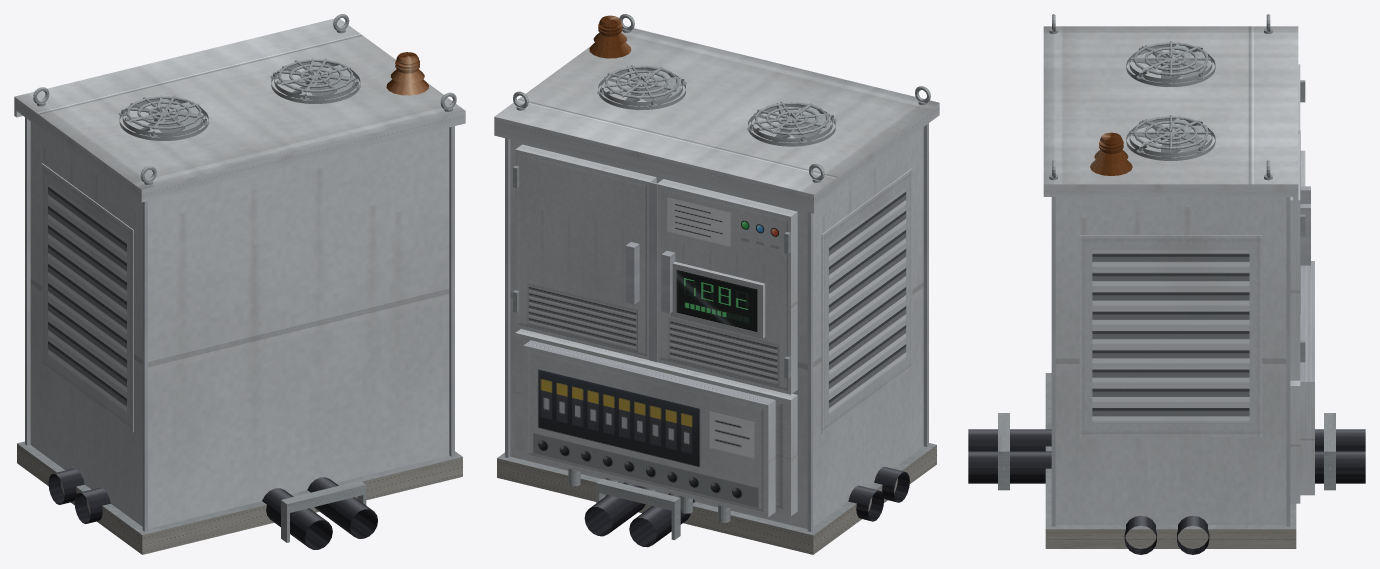
The model's file is pv_inverter.obj.
The picture shows the model from 3 angles, left to right: view 1: azimuth 30°, elevation 25°; view 2: azimuth 150°, elevation 25°; view 3: azimuth 270°, elevation 25°; orthographic projection.
Parts seen in each view (by area): view 1: cabinet, hood, grille, plinth, entry_south, fan_guard, entry_west, insulator, rotate_fan_west, rotate_fan_east; view 2: door, hood, section, cabinet, grille, plinth, blank, display, fan_guard, entry_north, entry_west, insulator (+2 smaller); view 3: cabinet, hood, grille, plinth, fan_guard, entry_south, door, section, entry_north, blank, insulator, entry_east (+2 smaller).
Part boxes in pixels (x1=…): cabinet: x1=25, y1=117, x2=454, y2=531; hood: x1=14, y1=14, x2=465, y2=202; grille: x1=41, y1=163, x2=133, y2=432; plinth: x1=17, y1=441, x2=462, y2=554; entry_south: x1=262, y1=477, x2=377, y2=549; fan_guard: x1=118, y1=58, x2=361, y2=140; entry_west: x1=48, y1=468, x2=110, y2=523; insulator: x1=386, y1=52, x2=428, y2=95; rotate_fan_west: x1=124, y1=95, x2=203, y2=137; rotate_fan_east: x1=276, y1=58, x2=355, y2=100; door: x1=513, y1=144, x2=797, y2=394; hood: x1=494, y1=14, x2=939, y2=213; section: x1=523, y1=340, x2=775, y2=522; cabinet: x1=505, y1=123, x2=928, y2=531; grille: x1=821, y1=168, x2=912, y2=433; plinth: x1=497, y1=443, x2=936, y2=554; blank: x1=515, y1=329, x2=797, y2=516; display: x1=671, y1=261, x2=765, y2=338; fan_guard: x1=597, y1=65, x2=836, y2=146; entry_north: x1=584, y1=478, x2=694, y2=547; entry_west: x1=848, y1=466, x2=909, y2=521; insulator: x1=589, y1=15, x2=631, y2=58; cabinet: x1=1051, y1=130, x2=1300, y2=526; hood: x1=1043, y1=14, x2=1298, y2=203; grille: x1=1079, y1=235, x2=1262, y2=437; plinth: x1=1045, y1=373, x2=1296, y2=548; fan_guard: x1=1126, y1=41, x2=1215, y2=160; entry_south: x1=968, y1=413, x2=1051, y2=490; door: x1=1290, y1=64, x2=1310, y2=380; section: x1=1300, y1=261, x2=1314, y2=495; entry_north: x1=1315, y1=413, x2=1365, y2=490; blank: x1=1290, y1=380, x2=1300, y2=503; insulator: x1=1090, y1=132, x2=1132, y2=175; entry_east: x1=1124, y1=515, x2=1209, y2=554.
Size of what is drawn, in the model's own units: 1 by 1.11 by 1.
